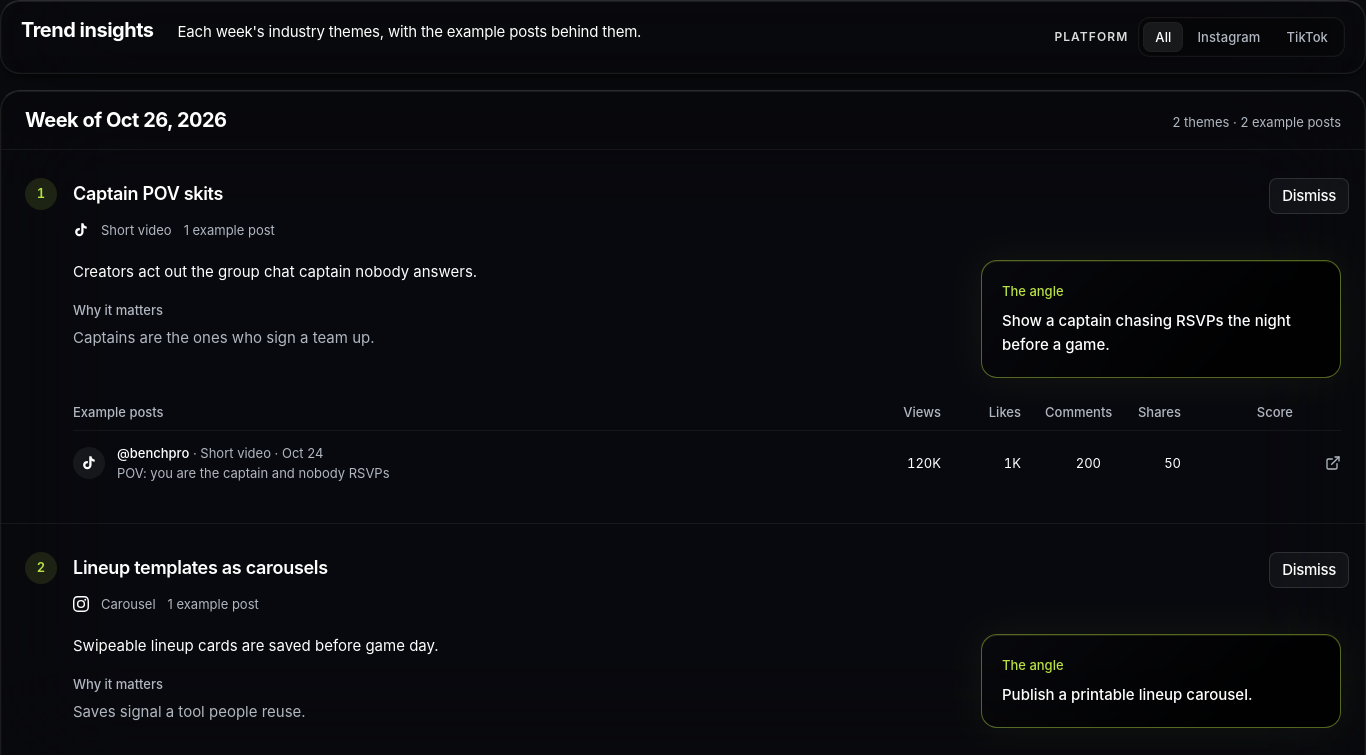
it: TrendInsightsSection › lets staff dismiss a theme after a confirm: the answer is asked for again and the theme is gone
The width and height of the screenshot is (1366, 755).
Check: the heading "Captain POV skits" is shown, box [73,178,223,206]
Click the button "Dismiss" in the row of "Captain POV skits": (1309, 196) [1269,178,1349,214]
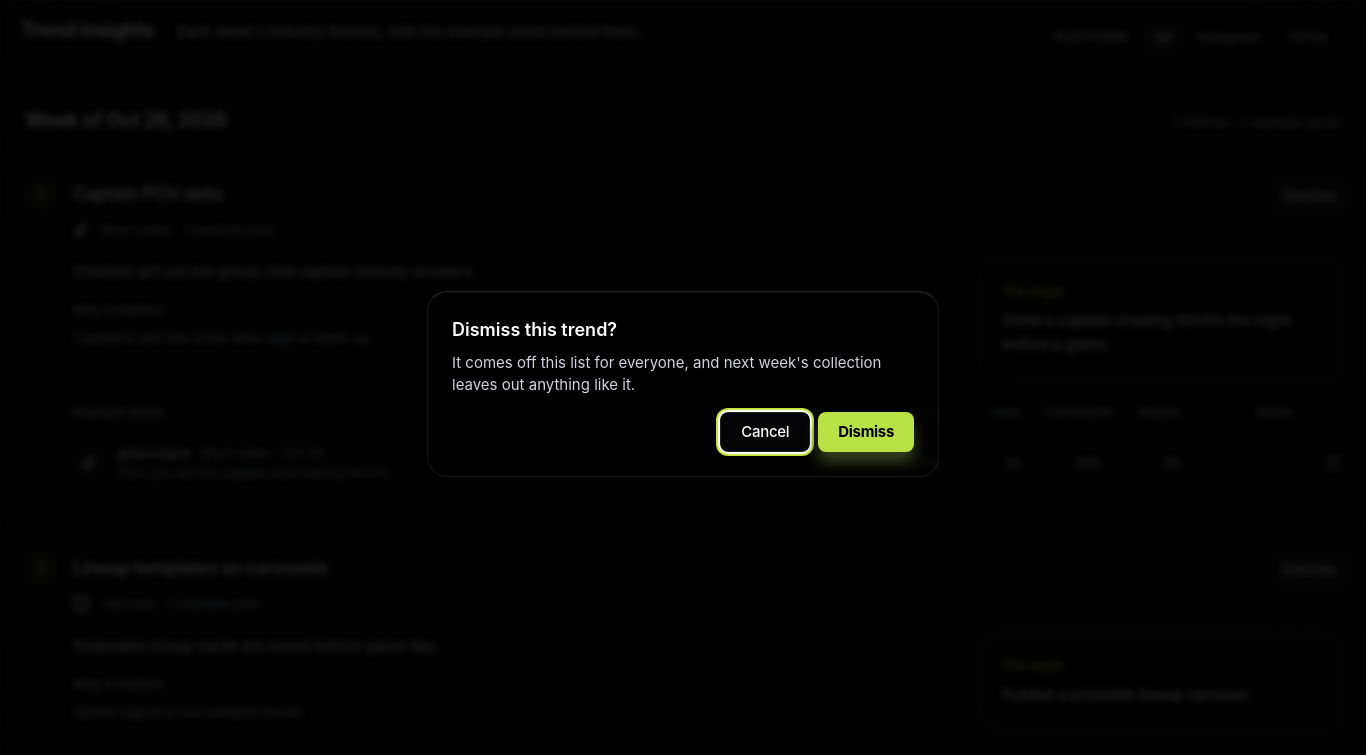
Click the button "Dismiss": (866, 432) [818,412,914,452]
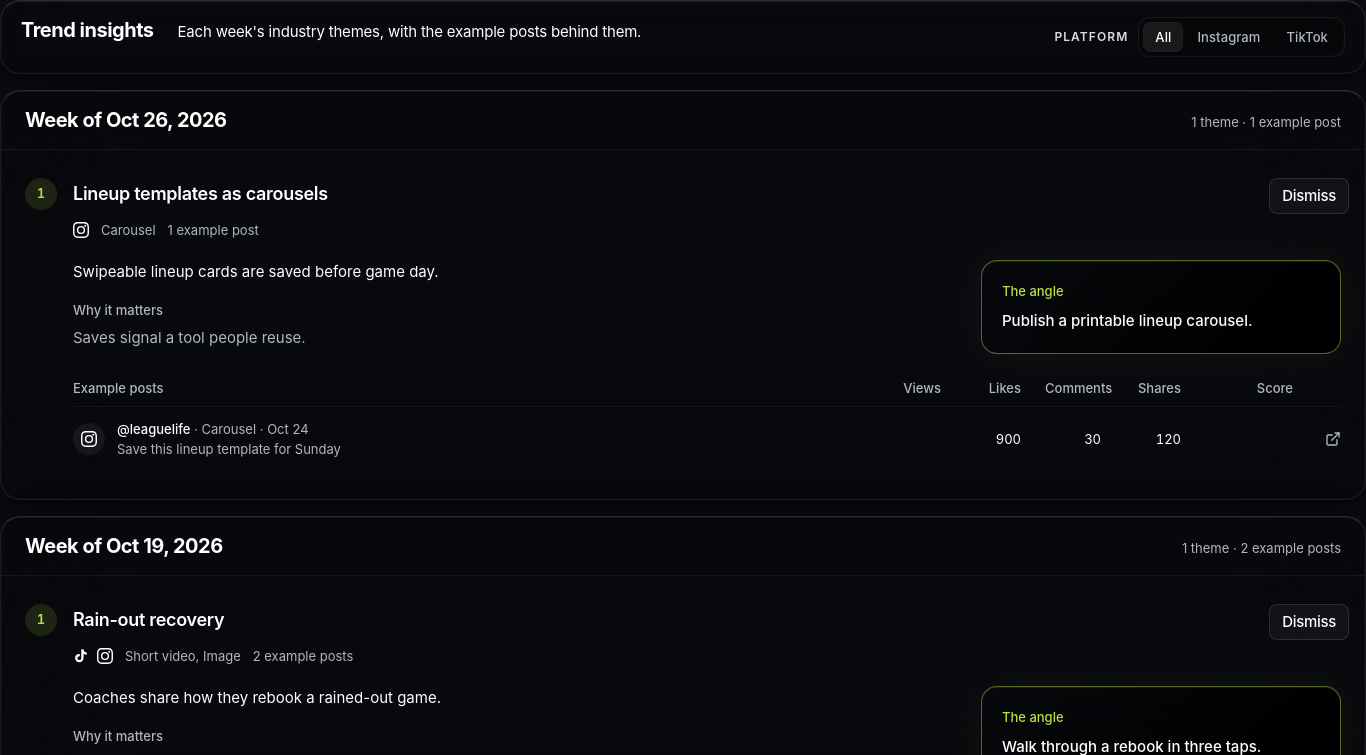
Check: the heading "Lineup templates as carousels" is shown, box [73,178,328,206]
Check: the heading "Captain POV skits" is gone
